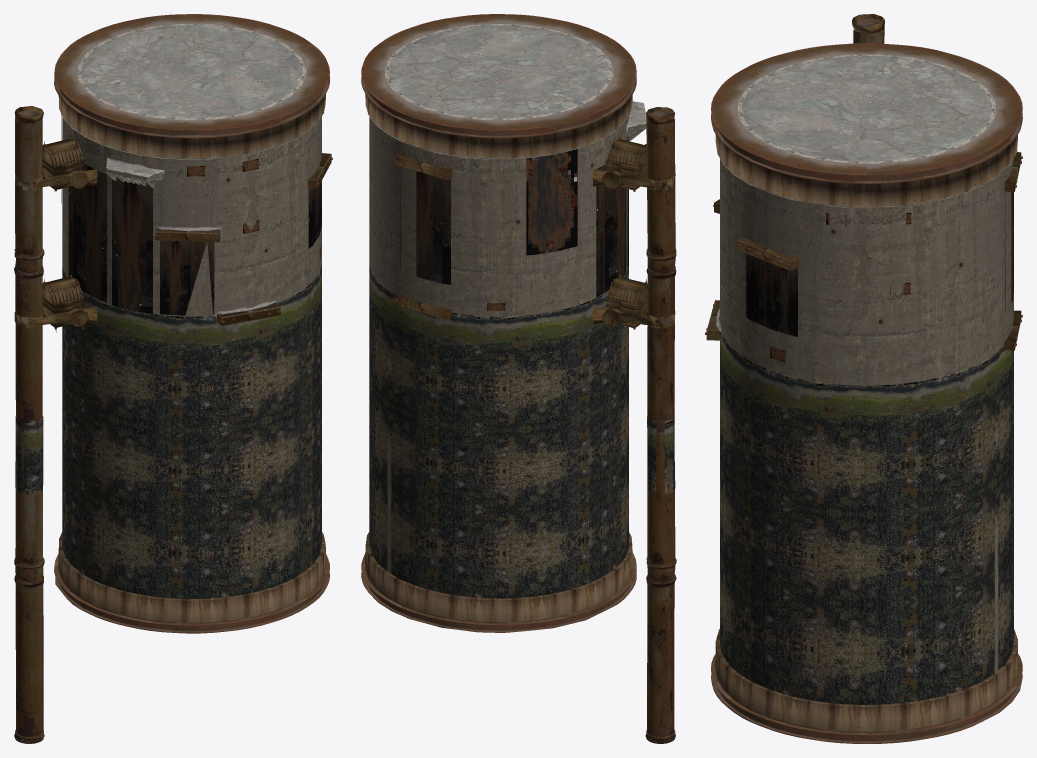
Rendered from oilrigfoot_flat.glb.
The picture shows the model from 3 angles, left to right: view 1: azimuth 30°, elevation 25°; view 2: azimuth 150°, elevation 25°; view 3: azimuth 270°, elevation 25°; orthographic projection. The views are drawn at different scales.
Visible parts, largest first — view 1: OilRigFoot_b_LOD0; view 2: OilRigFoot_b_LOD0; view 3: OilRigFoot_b_LOD0.
Boxes of the visible parts, x1=… form: OilRigFoot_b_LOD0: x1=14, y1=14, x2=332, y2=743; OilRigFoot_b_LOD0: x1=361, y1=14, x2=676, y2=743; OilRigFoot_b_LOD0: x1=705, y1=14, x2=1022, y2=743.
Size of the model in its own units: 38.8 by 78.7 by 31.97.
7 materials, 7 textured.
